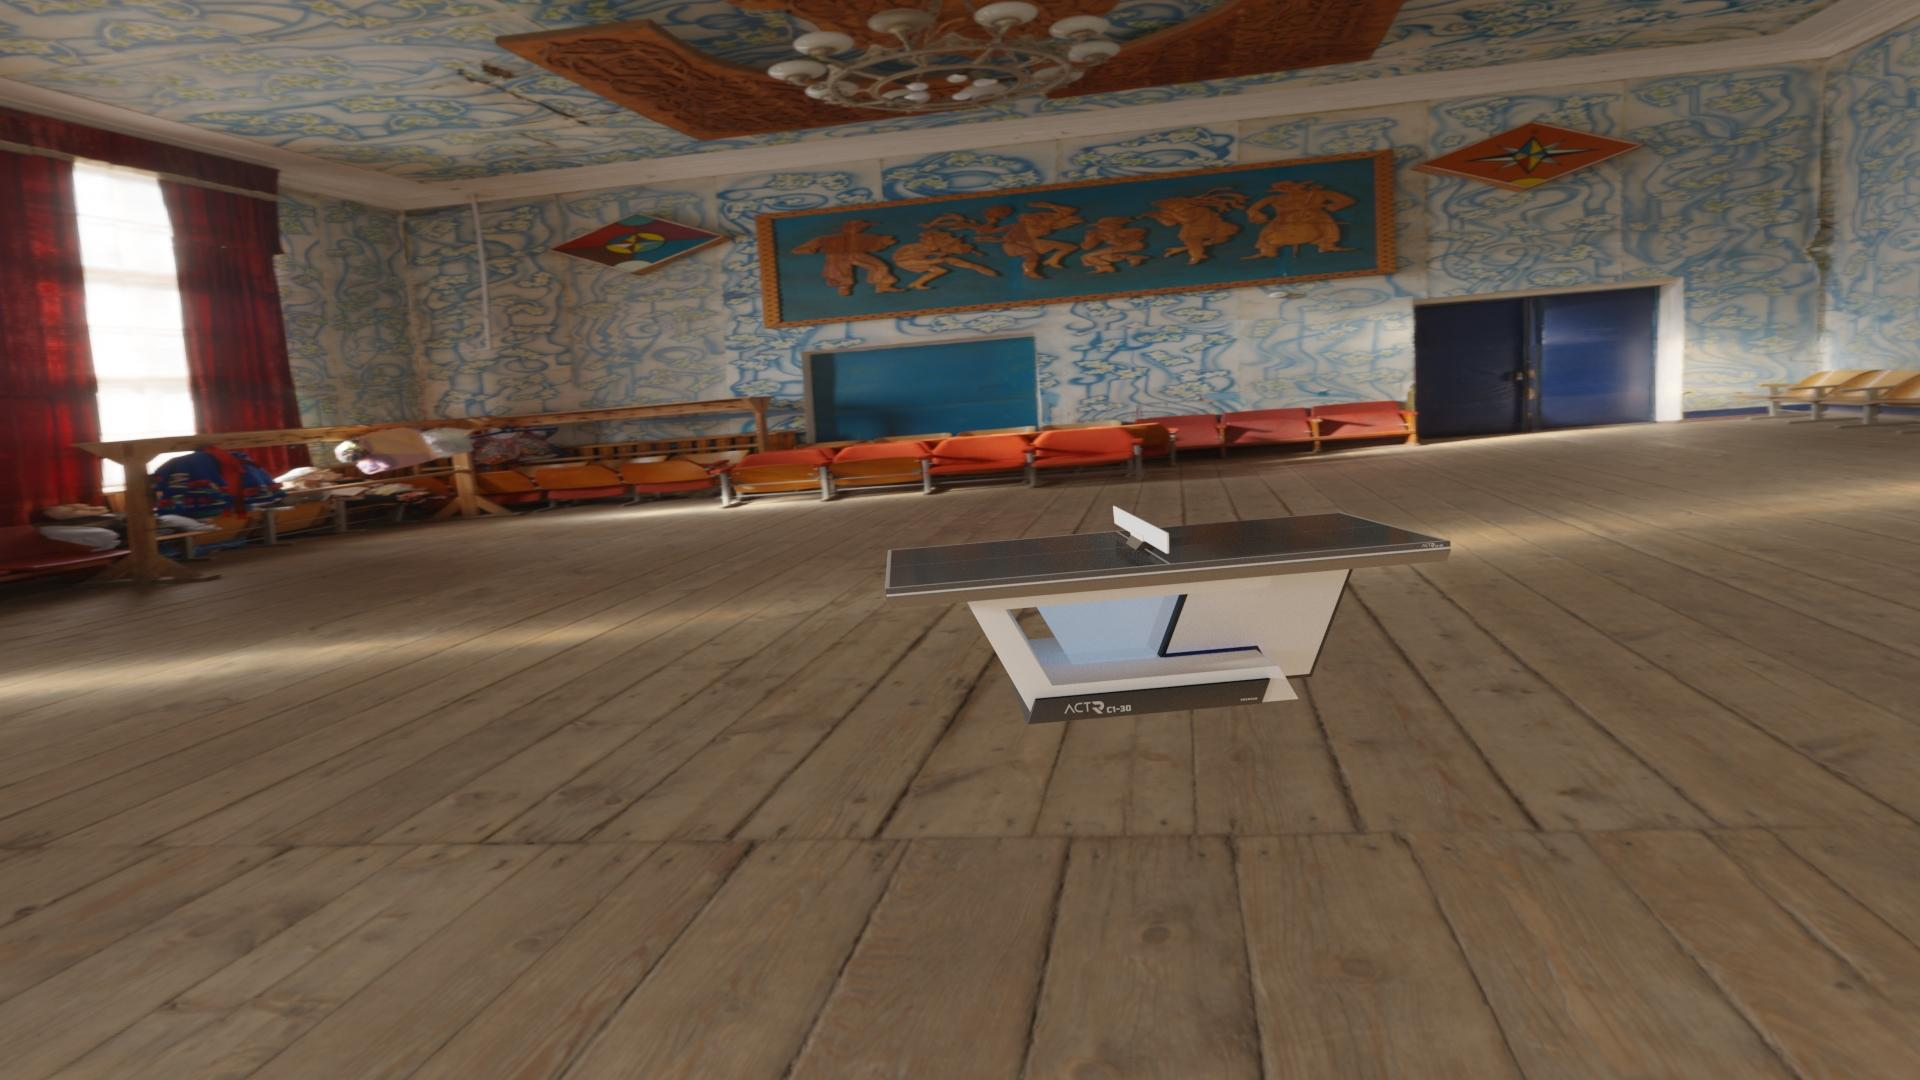table: (889, 513, 1445, 588)
